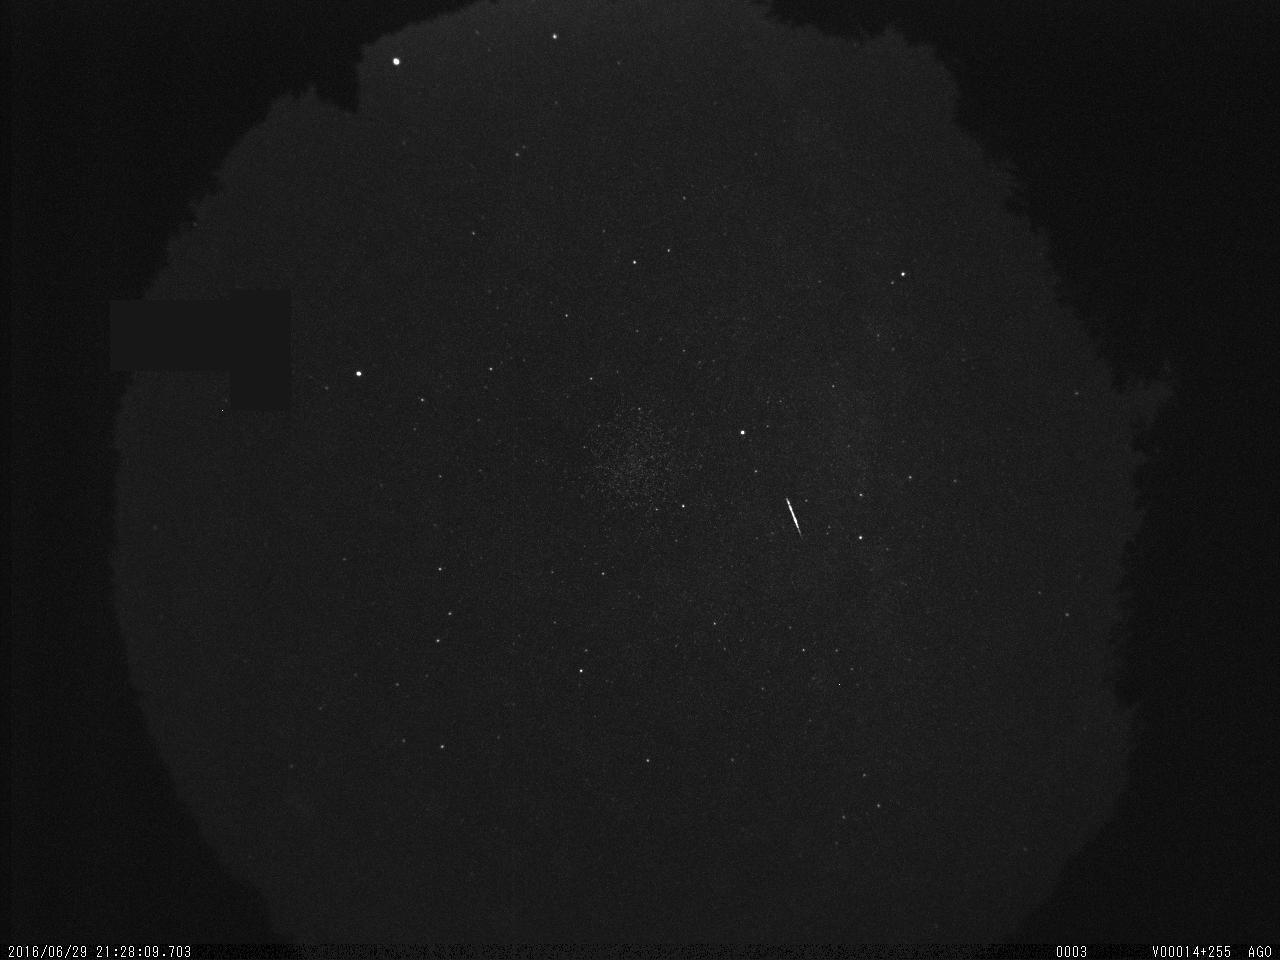meteor: (777, 493, 811, 542)
